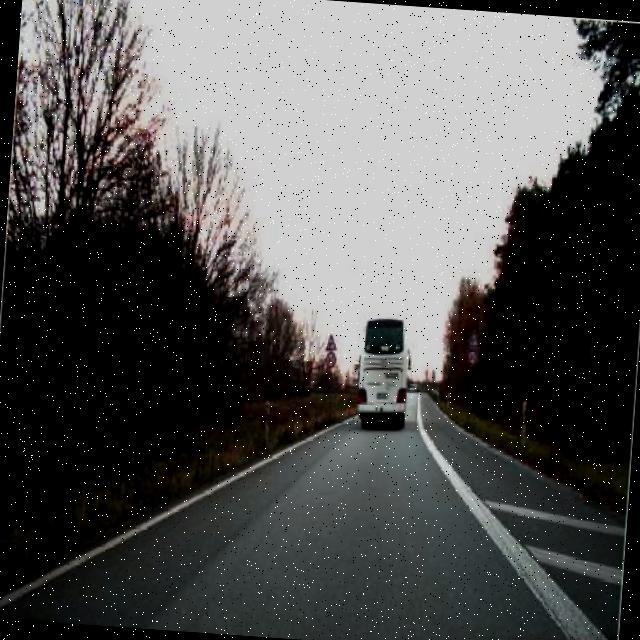Ograniczenie predkosci do 60: (323, 348, 338, 371), (464, 348, 480, 367)
